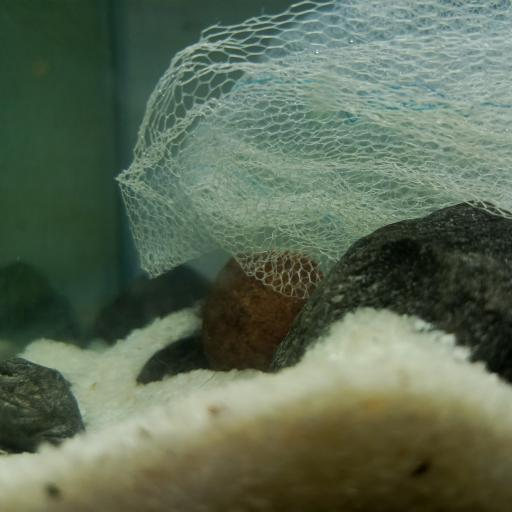net: (117, 0, 512, 300)
